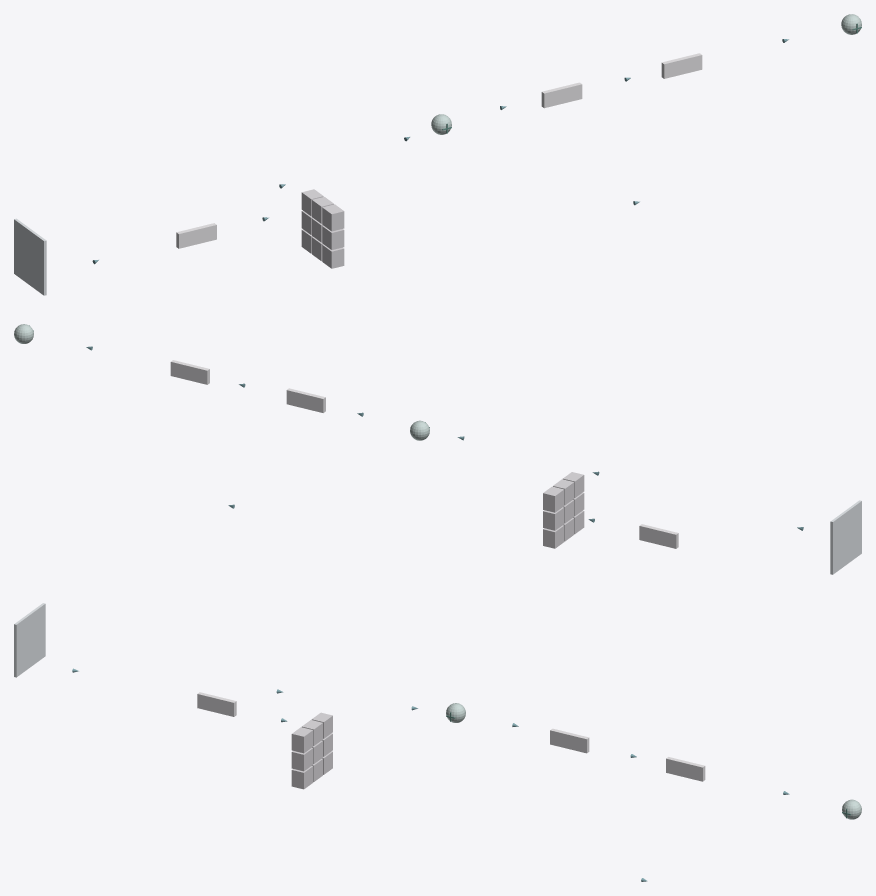
Rendered from regular-block-final.glb.
3 views of the same model, one above another, from view 1: azimuth 30°, elevation 25°; view 2: azimuth 150°, elevation 25°; view 3: azimuth 330°, elevation 25° (orthographic). The views are drawn at different scales.
Parts seen in each view (by area): view 1: Input features · C×H×W, LN (×2), MLP; view 2: Input features · C×H×W, LN (×2), MLP, W-MSA; view 3: Input features · C×H×W, LN (×2), MLP.
Boxes of the visible parts, x1,y1,x2,y2 form: Input features · C×H×W: (14,218,46,295); LN (×2): (176,82,582,248); MLP: (661,53,702,78); Input features · C×H×W: (830,500,861,574); LN (×2): (286,388,678,548); MLP: (170,360,209,384); W-MSA: (543,486,564,512); Input features · C×H×W: (14,603,45,677); LN (×2): (197,692,589,753); MLP: (666,757,705,781).
Bounding box in the file's own units: 42.21 × 6.55 × 3.05.
